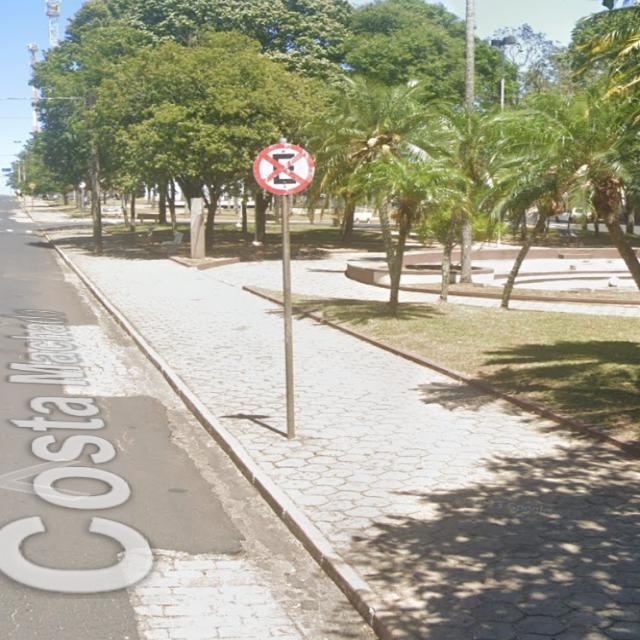no parking: (234, 118, 336, 205)
